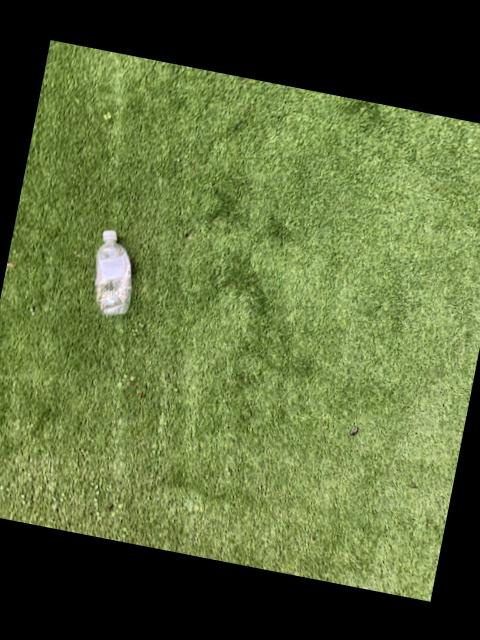plastic: (94, 227, 130, 312)
